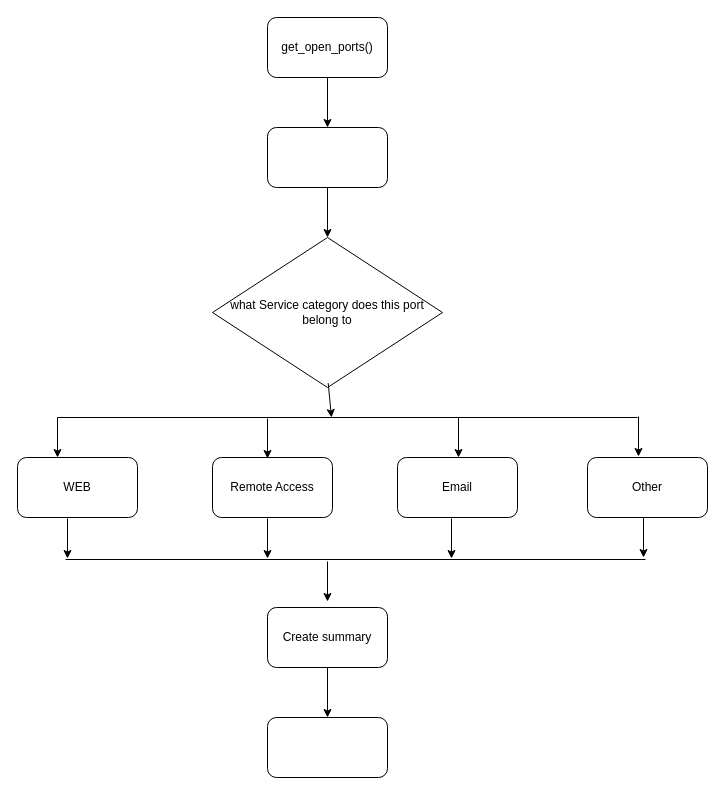
Some shapes in this 725 by 795 pixel diagram are drawn without their labels. Here are the shapes that lost their labels. From the top down, the centre of each, then its label:
At pixel 327 157: "Loop through each open port".
At pixel 327 747: "Print Report".
